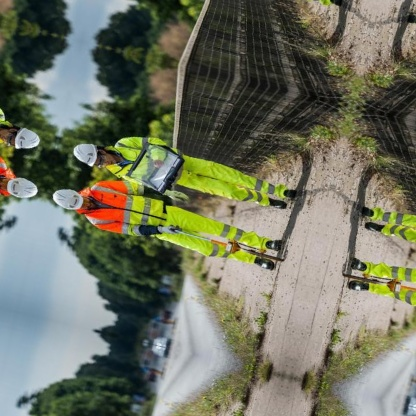vest: (77, 173, 175, 247), (103, 127, 199, 196)
white: (46, 182, 89, 217), (67, 137, 106, 171)
